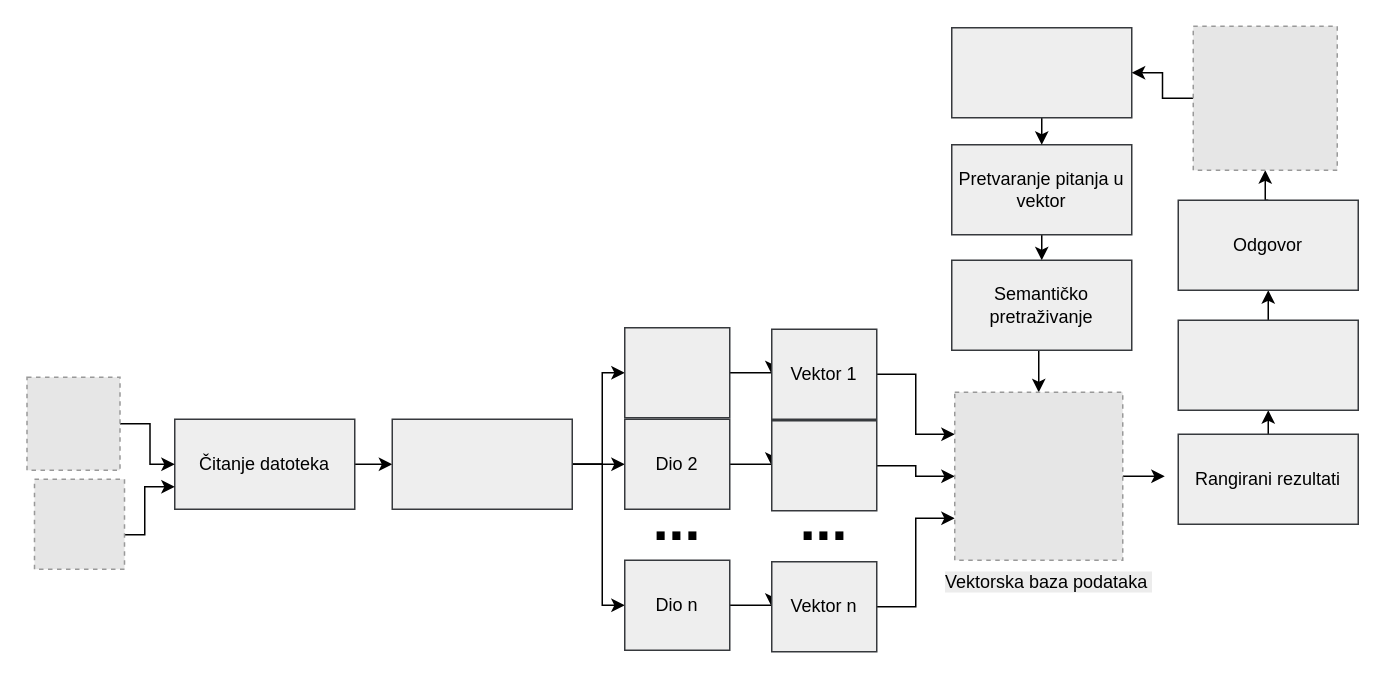
Image size: 1385x678. Some labels were removed from this diagram. Grey dashed boxes stand in for pictures. Here are the shapes that lost their labels. From the top down, the centre of each, then its label:
At pixel 1041 72: "Pitanje".
At pixel 676 372: "Dio 1".
At pixel 1267 364: "Veliki jezični model (LLM)".
At pixel 481 463: "Podijela u dijelove (chunkove)".
At pixel 823 465: "Vektor 2".
